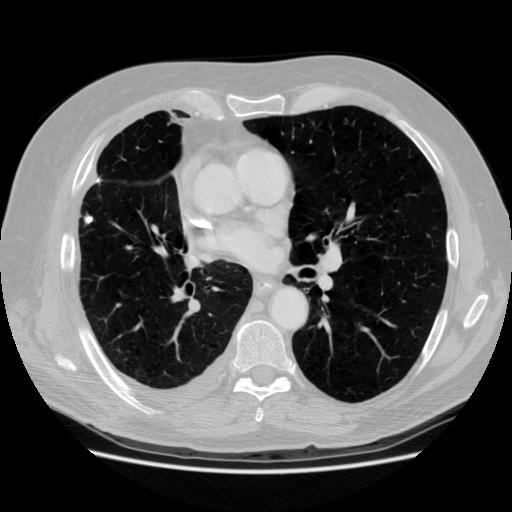nodule: (82, 212, 96, 226)
